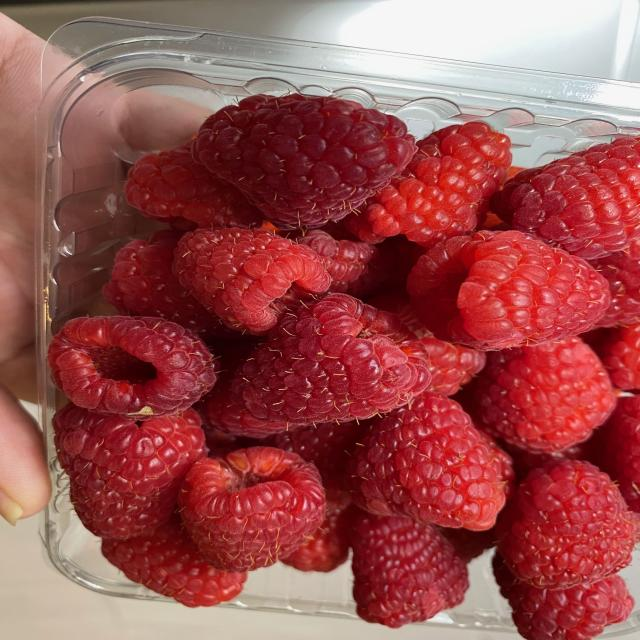raspberries: (54, 62, 640, 633)
